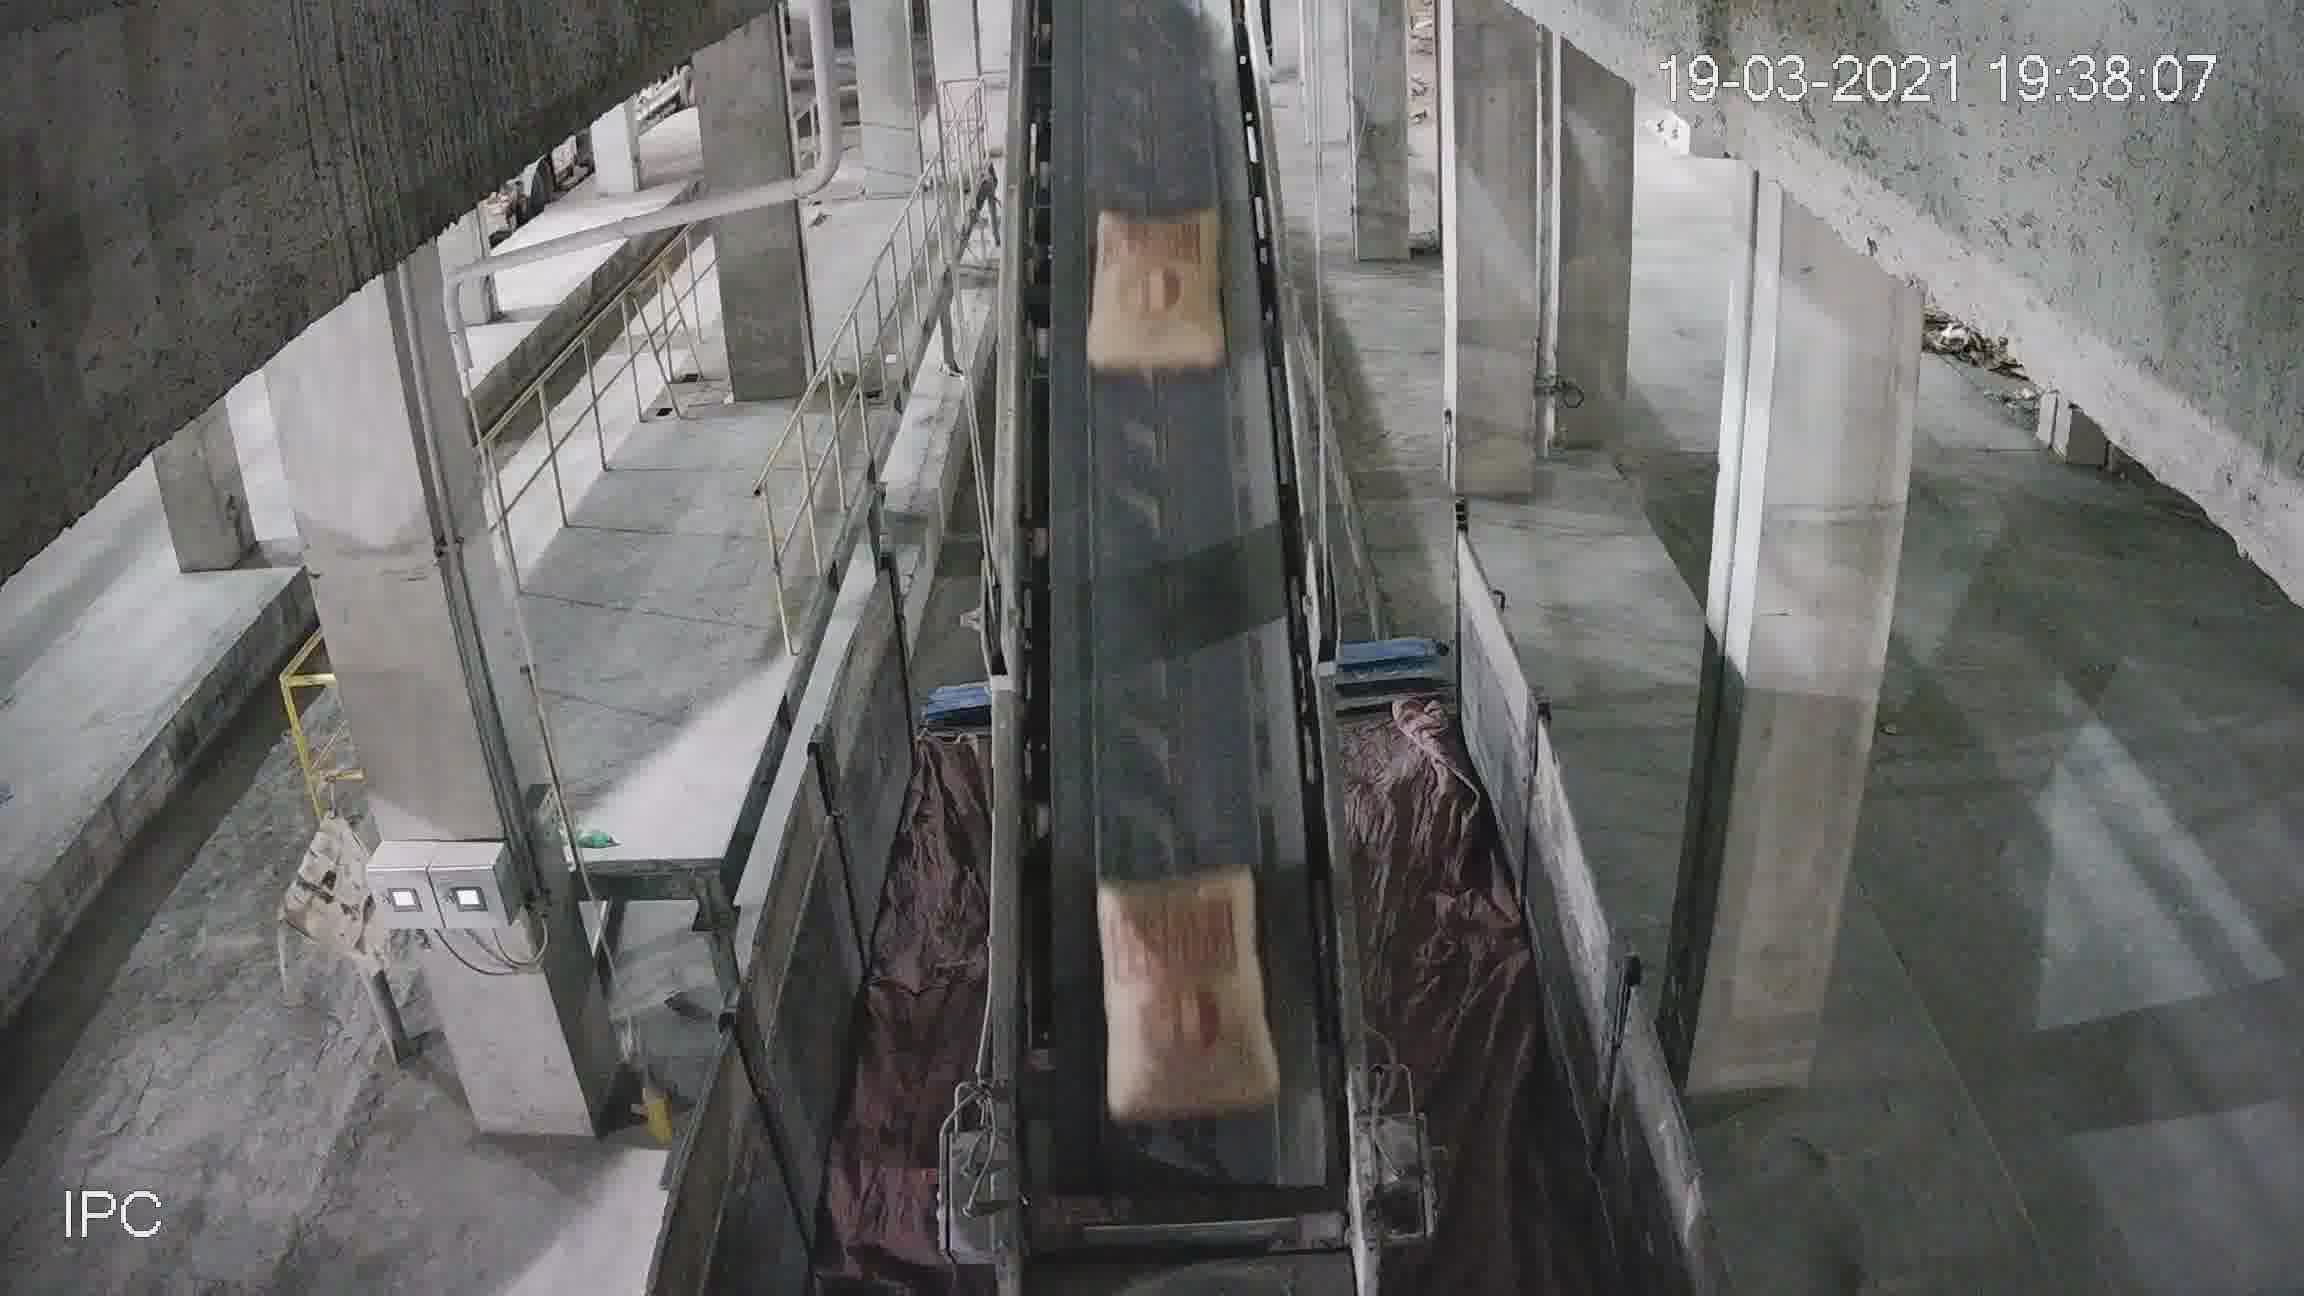bag: (1100, 862, 1260, 1116), (1087, 218, 1222, 369)
belt: (987, 0, 1340, 1150)
